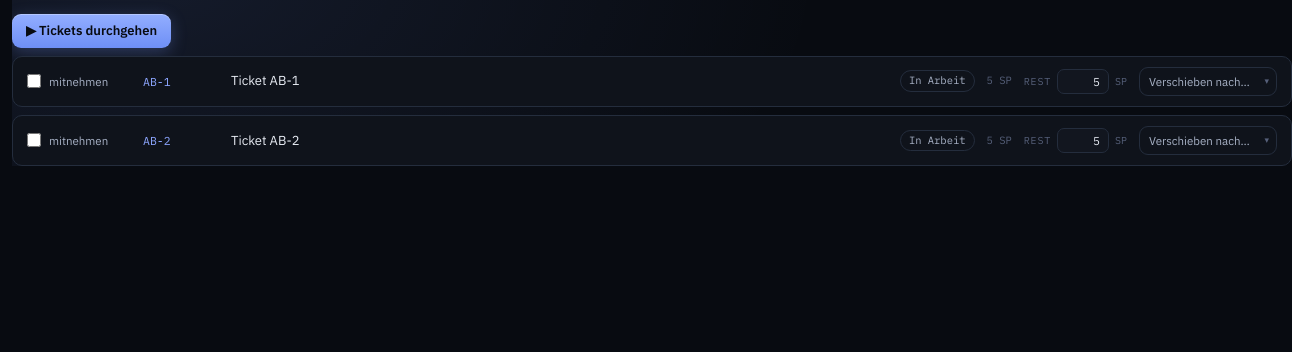
Test: CarryOverList Durchgeh-Modus › geht mit Weiter zum nächsten und mit Zurück wieder hoch
The image size is (1292, 352).
Click the button "▶ Tickets durchgehen" at (92, 31), box [12,14,171,48]
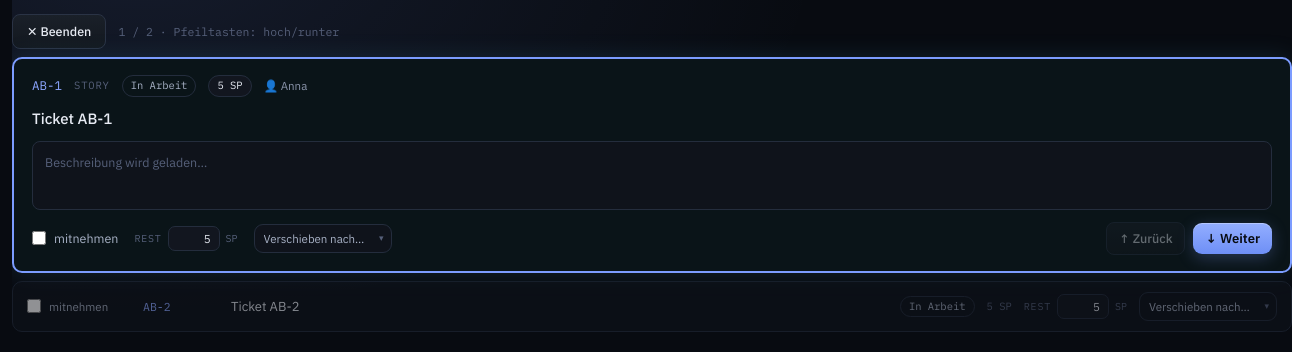
Click the button "↓ Weiter" at (1233, 238), box [1194,223,1272,254]
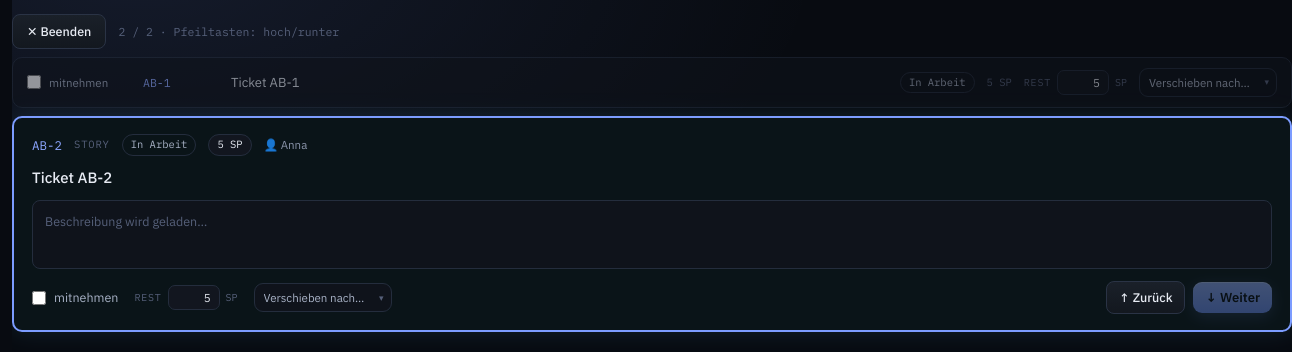
Check: the text "2 / 2" is shown, box [118,23,339,40]
Check: the button "↓ Weiter" is disabled, box [1194,282,1272,313]
Click the button "↑ Zurück" at (1146, 298), box [1106,281,1186,314]
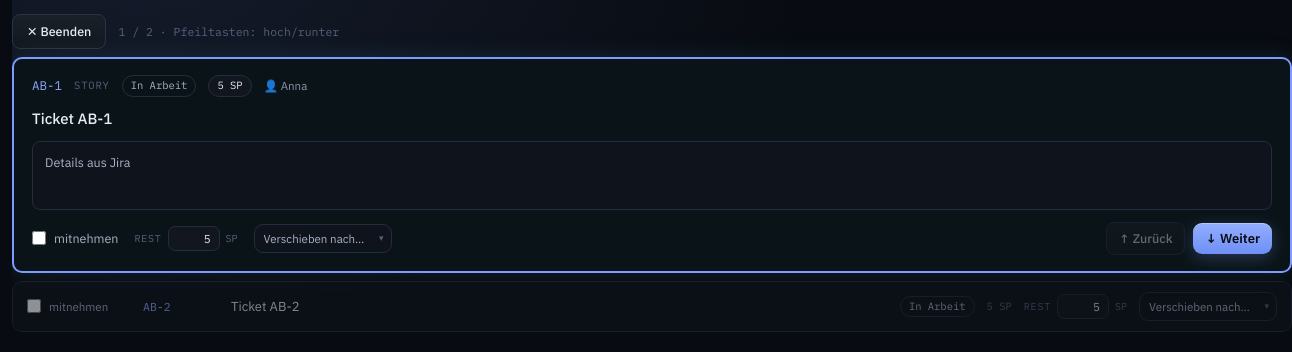
Check: the text "1 / 2" is shown, box [118,23,339,40]
